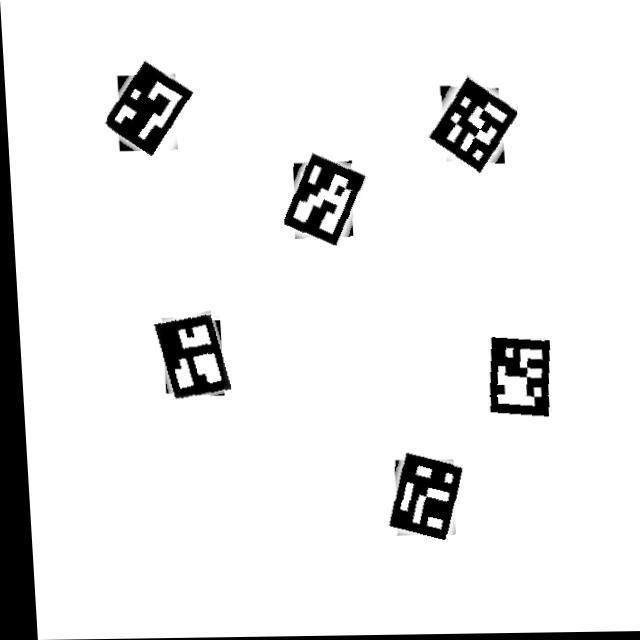aruco: (103, 61, 208, 165), (419, 72, 519, 181), (278, 153, 369, 253), (378, 450, 466, 549), (472, 330, 557, 429), (148, 307, 227, 400)
